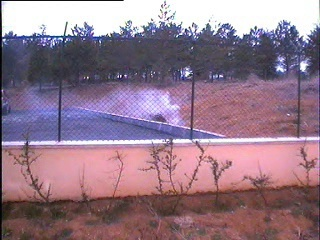smoke: (104, 82, 184, 127)
